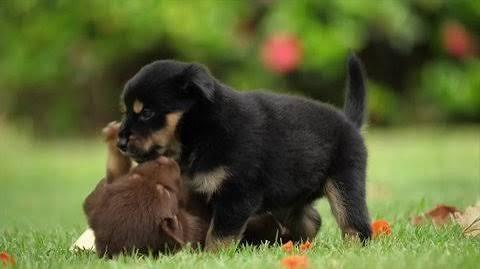puppy-dog: (115, 56, 376, 252), (75, 122, 316, 258)
